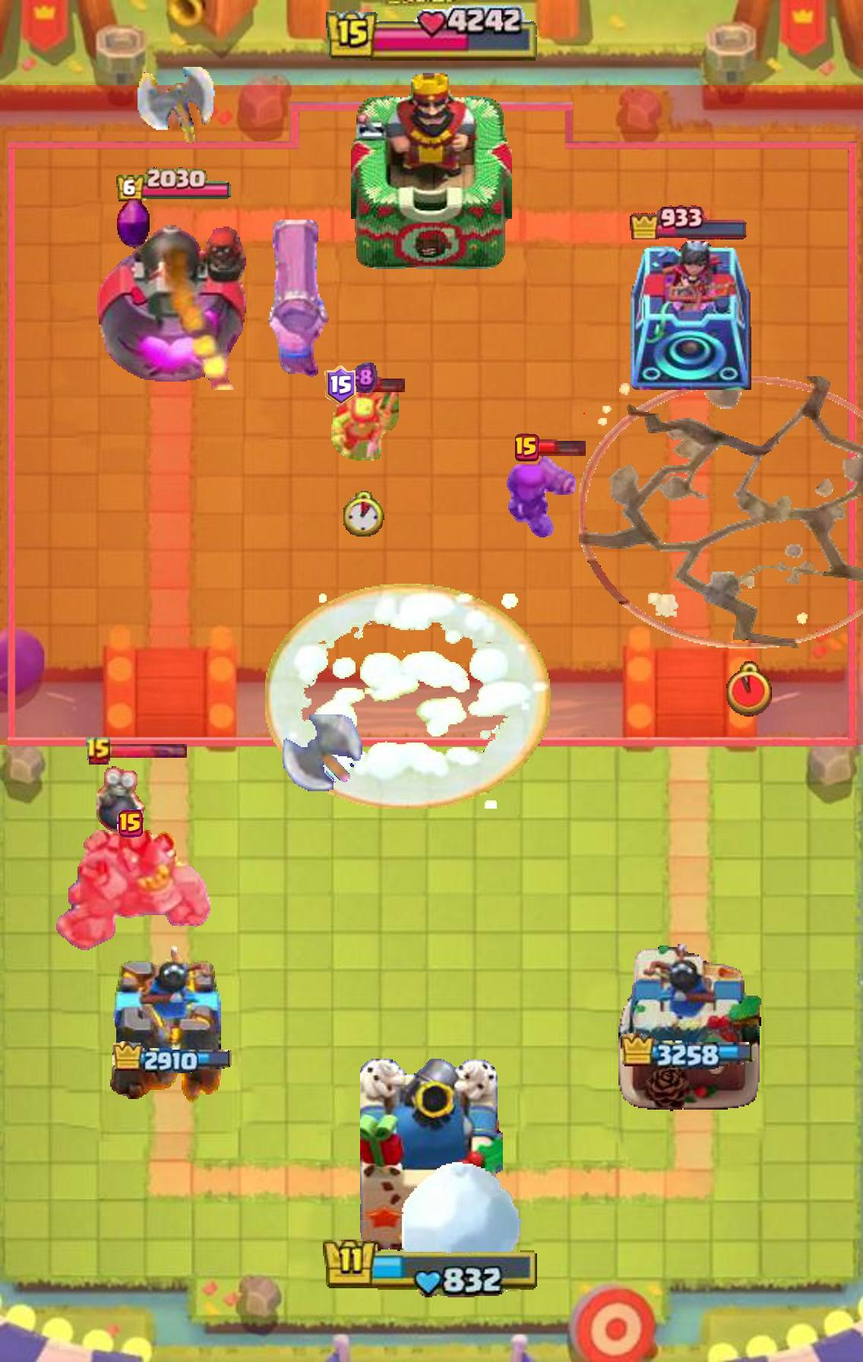bar: (109, 743, 188, 760), (352, 376, 406, 394), (536, 439, 586, 457)
bar-level: (324, 366, 356, 406), (85, 736, 112, 767), (117, 810, 144, 838), (515, 433, 539, 461)
